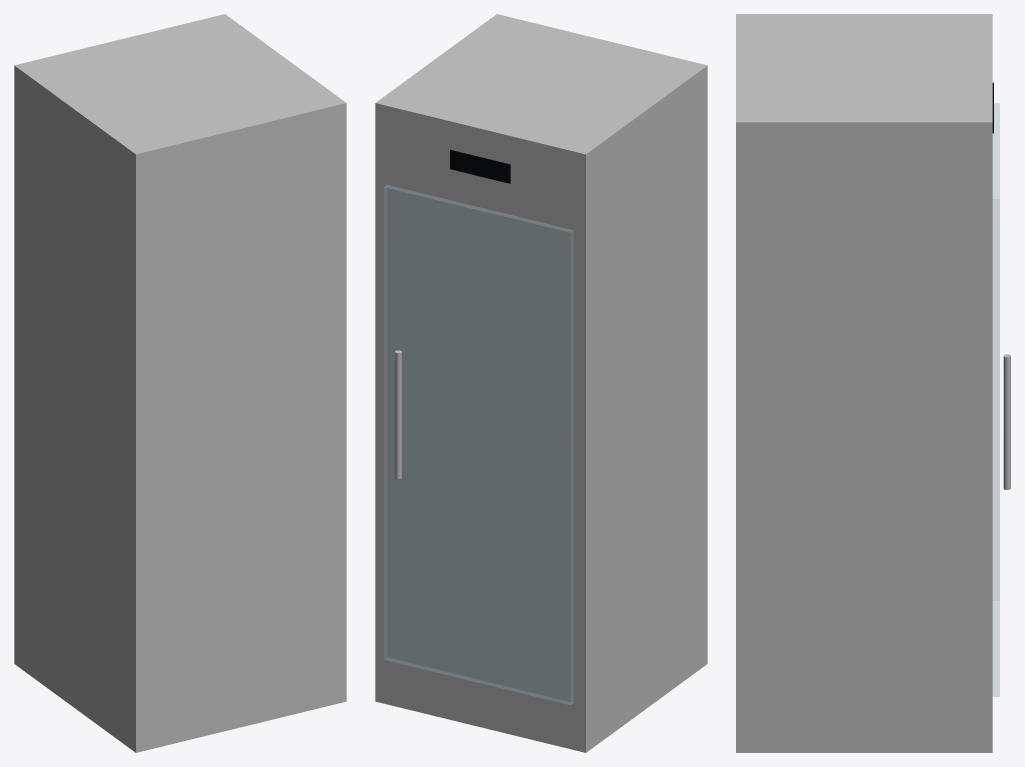
The model's file is hospital.lab.blood_fridge.glb.
The picture shows the model from 3 angles, left to right: view 1: azimuth 30°, elevation 25°; view 2: azimuth 150°, elevation 25°; view 3: azimuth 270°, elevation 25°; orthographic projection. The views are drawn at different scales.
Visible parts, largest first — view 1: main__steel_stainless; view 2: main__steel_stainless, main__glass, main__screen; view 3: main__steel_stainless, main__glass.
Boxes of the visible parts, x1,y1,x2,y2 form: main__steel_stainless: (14, 14, 346, 752); main__steel_stainless: (375, 14, 707, 752); main__glass: (384, 185, 573, 704); main__screen: (450, 149, 510, 183); main__steel_stainless: (736, 14, 1010, 752); main__glass: (993, 103, 999, 696).
Size of the model in its own units: 0.7 by 1.9 by 0.75.
